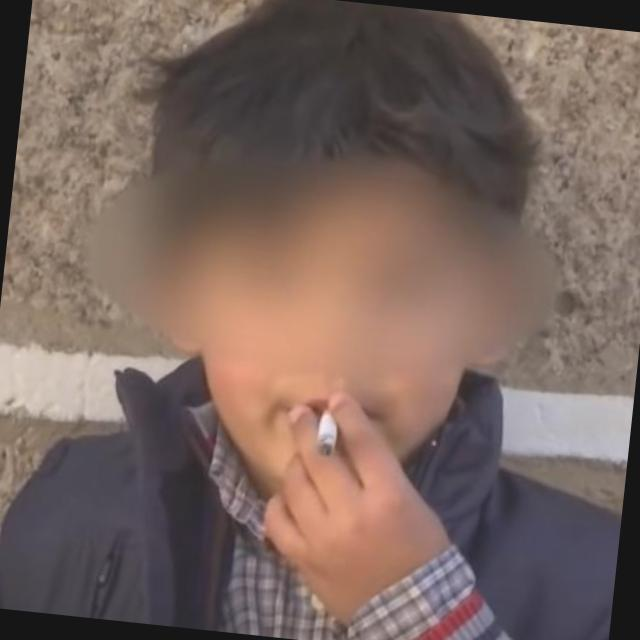smoke: (280, 384, 362, 470)
